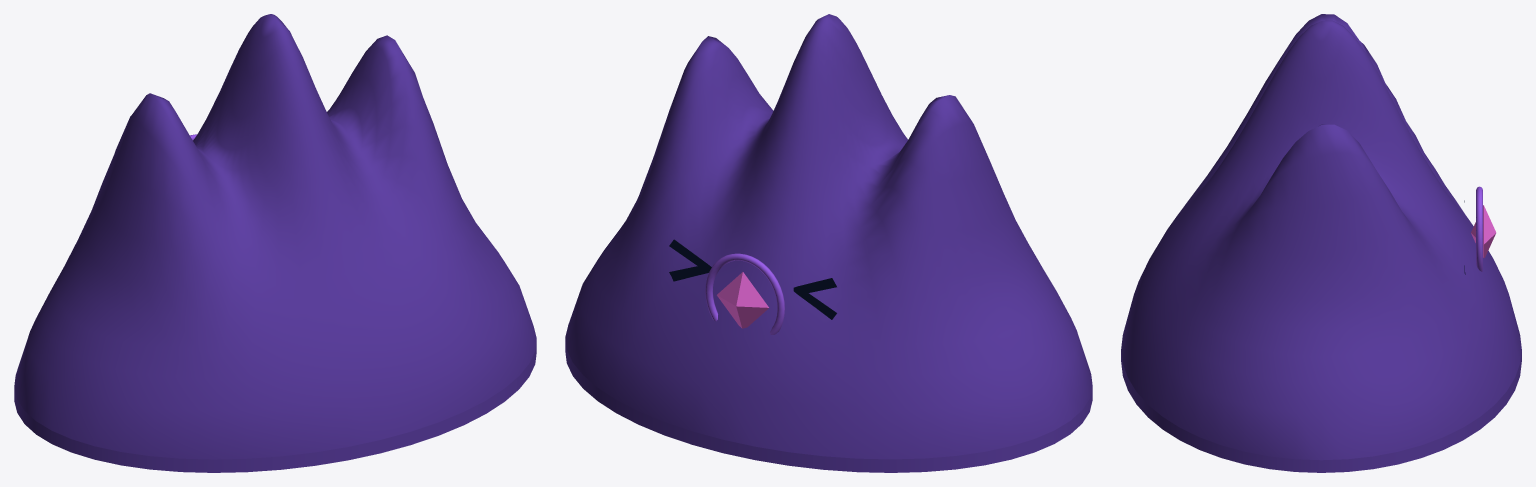
The model's file is prism_slime_hurt.obj.
3 renders of one model, left to right at view 1: azimuth 30°, elevation 25°; view 2: azimuth 150°, elevation 25°; view 3: azimuth 270°, elevation 25°, orthographic. The views are drawn at different scales.
Parts seen in each view (by area): view 1: PrismSlimeBody; view 2: PrismSlimeBody, PrismCore, HurtEyes, PrismCoreFrame; view 3: PrismSlimeBody, PrismCoreFrame, PrismCore.
Part boxes in pixels (box(x1,y1,x2,y2)): PrismSlimeBody: box(14, 14, 536, 472); PrismSlimeBody: box(565, 14, 1092, 472); PrismCore: box(717, 272, 768, 328); HurtEyes: box(669, 239, 836, 319); PrismCoreFrame: box(705, 253, 784, 334); PrismSlimeBody: box(1121, 14, 1521, 472); PrismCoreFrame: box(1476, 186, 1482, 271); PrismCore: box(1471, 205, 1496, 257).
Bounding box in the file's own units: 1.68 × 1.2 × 1.28.
